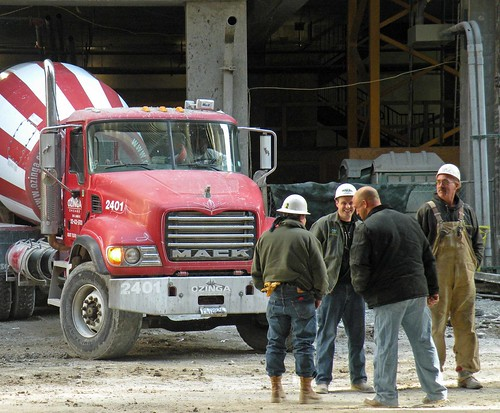person hardhat: (414, 157, 485, 392), (313, 176, 380, 410), (259, 186, 325, 407)
